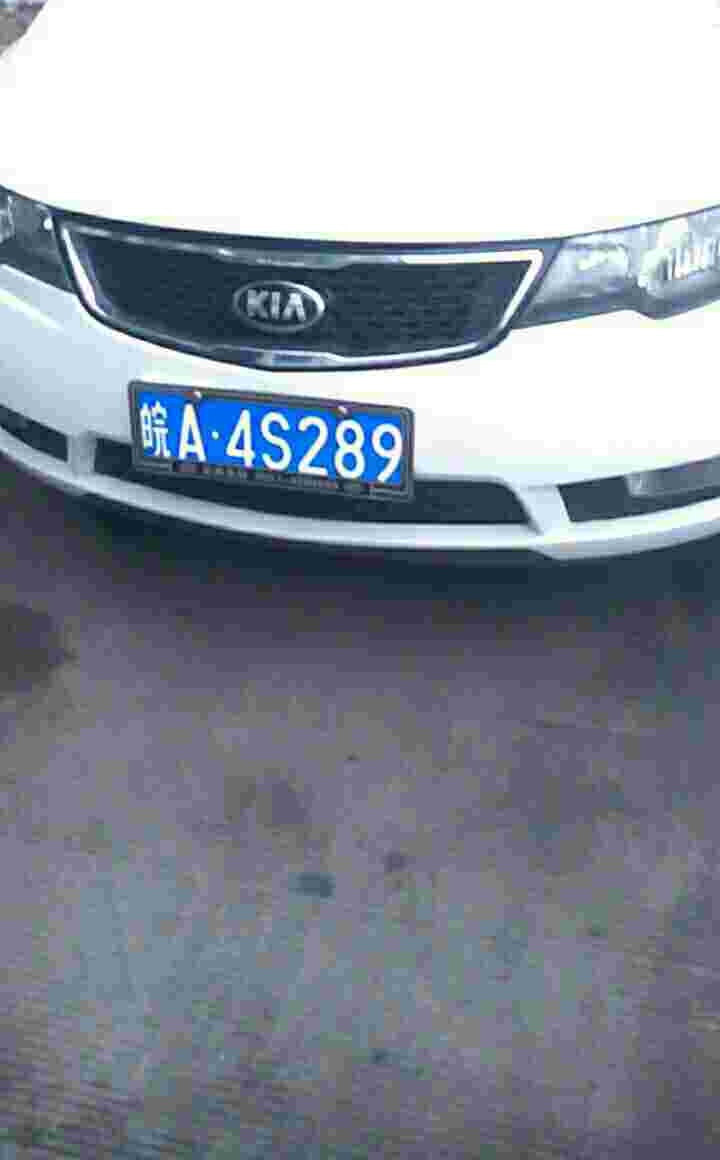license_plate: (137, 389, 403, 487)
